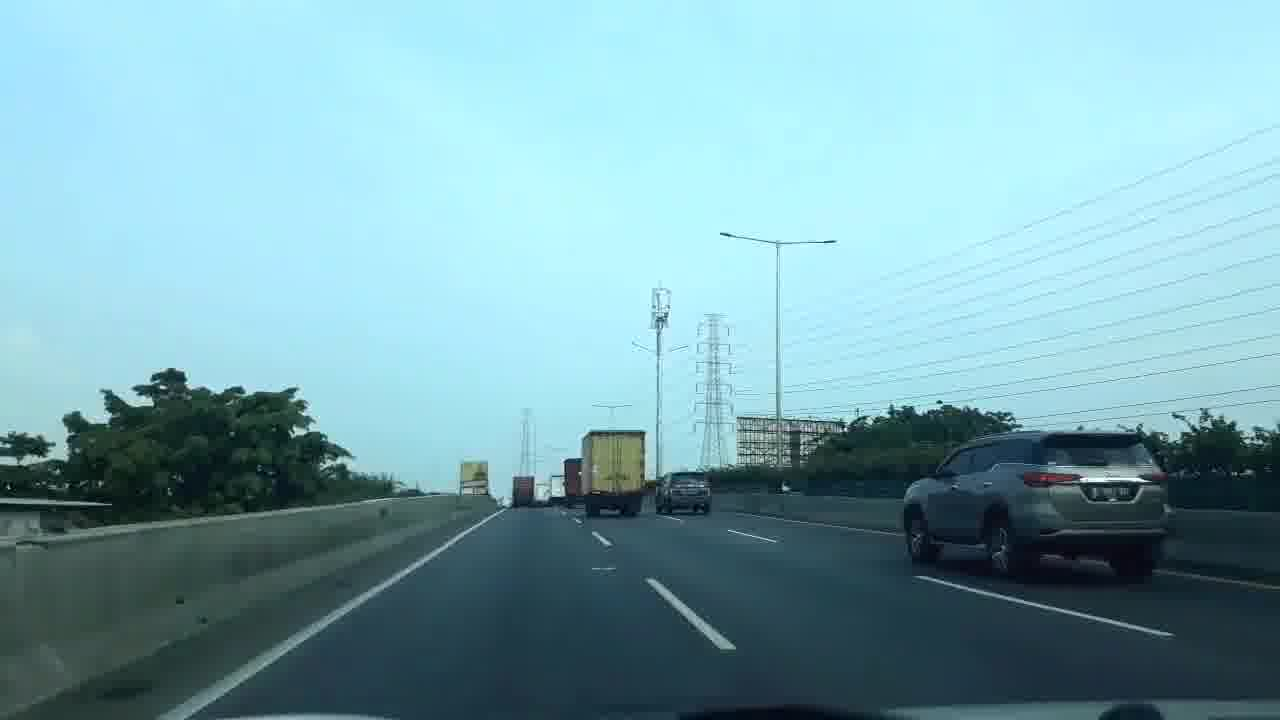plate_positive: (1089, 486, 1130, 499)
